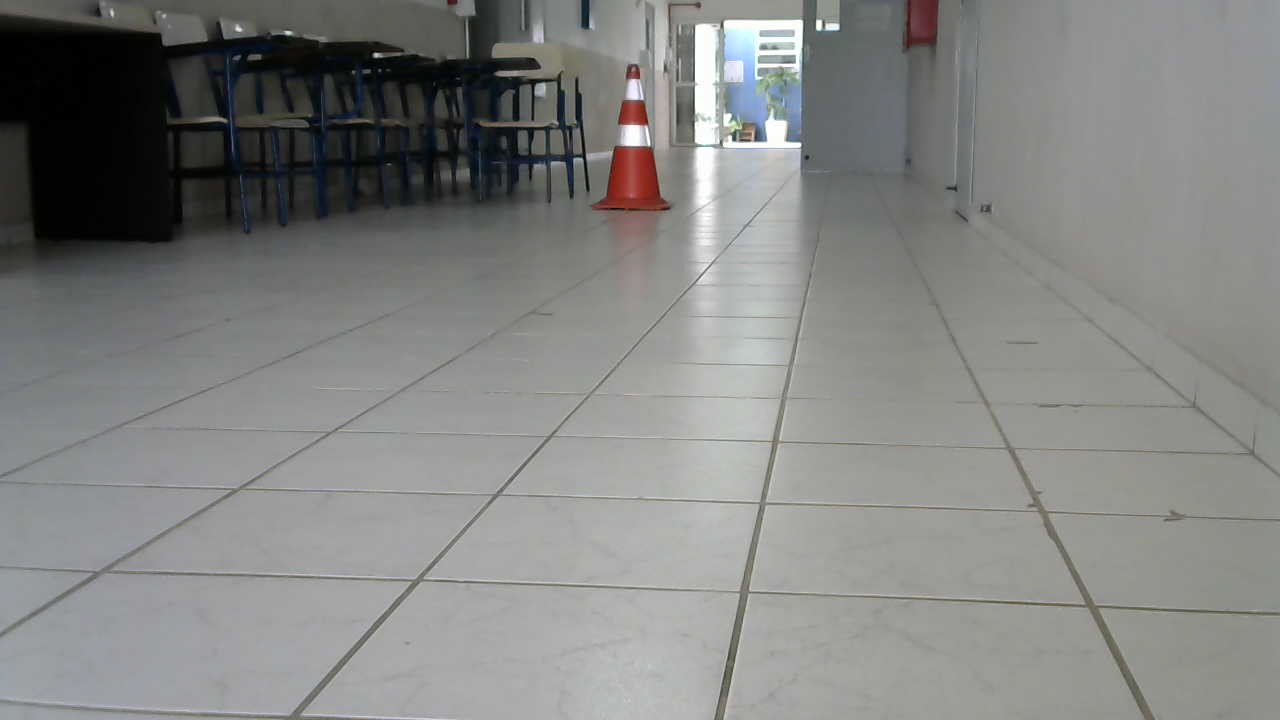cone: (596, 62, 673, 214)
